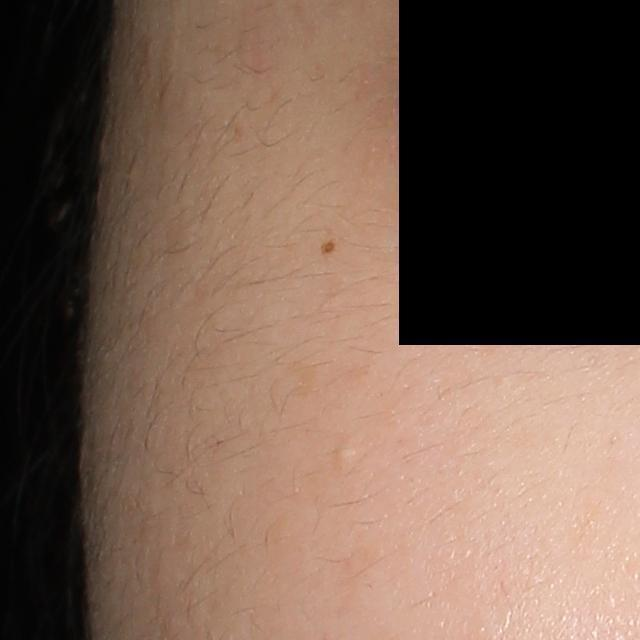comedo: (329, 439, 360, 469)
nevus: (317, 237, 338, 258)
